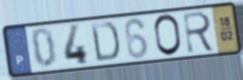0: (30, 26, 58, 70)
4: (63, 22, 91, 67)
6: (122, 16, 152, 61)
D: (89, 21, 122, 64)
O: (153, 13, 184, 58)
R: (181, 10, 217, 55)
